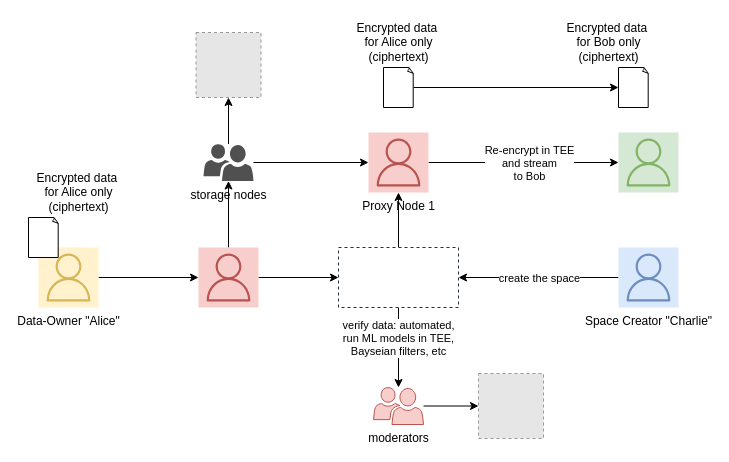
Image size: 729x462. Some labels were removed from this diagram. Grey dashed boxes stand in for pictures. Here are the shapes that lost their labels. From the top down, the box of each, then its label:
(618, 132, 678, 192): Data-Consumer "Bob"
(198, 246, 258, 308): Proxy Node 0
(338, 246, 458, 308): Charlie's Space
